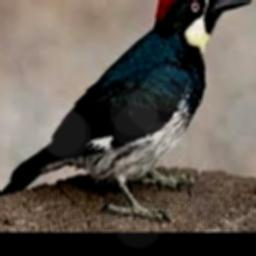Woodpecker: (0, 0, 252, 218)
